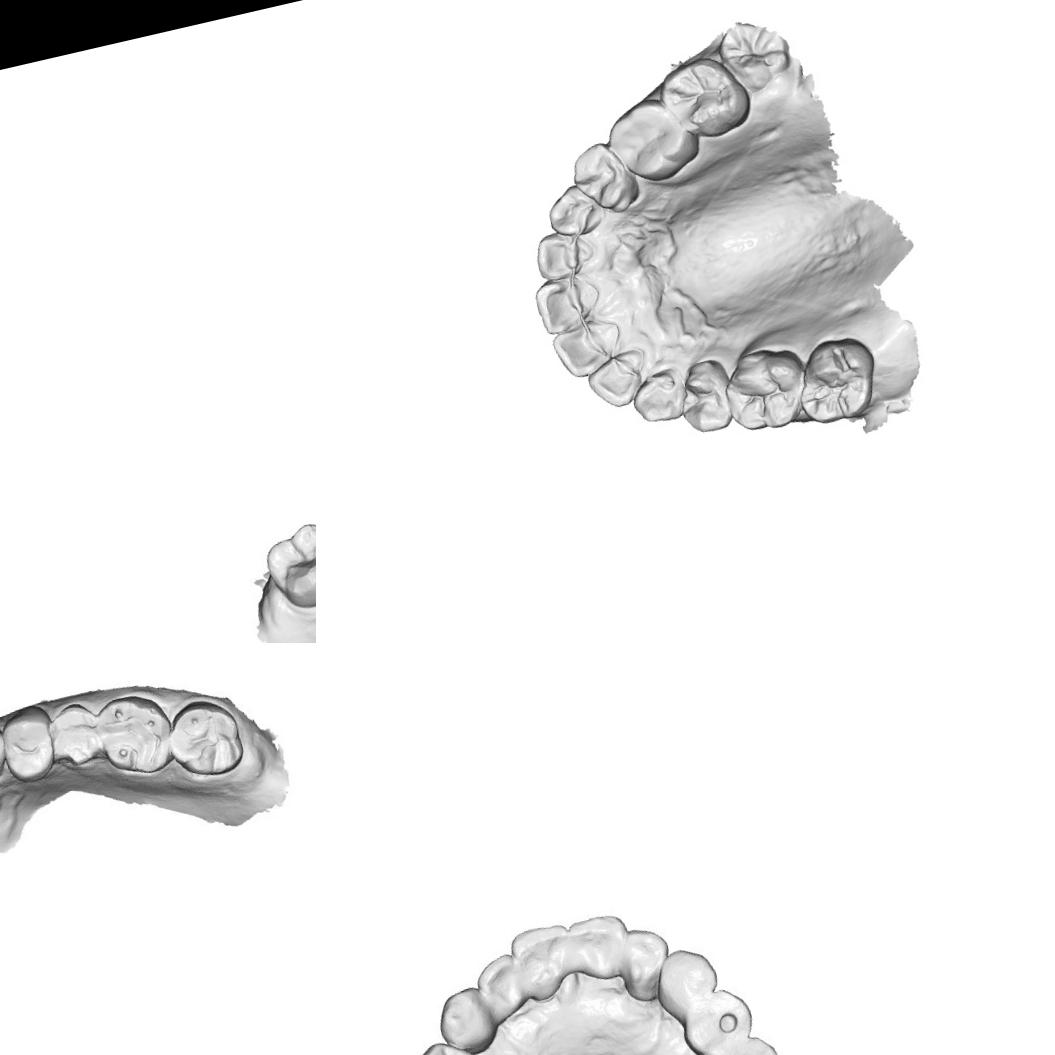canine: (646, 938, 725, 1018), (428, 982, 496, 1055), (626, 360, 696, 430), (540, 178, 607, 240)
incisor: (502, 914, 581, 1001), (559, 907, 637, 990), (608, 918, 677, 1005), (548, 314, 627, 382), (531, 269, 606, 337), (582, 346, 654, 412), (470, 948, 526, 1024), (530, 224, 600, 284)
molar: (601, 90, 706, 191), (652, 49, 756, 147), (787, 330, 887, 428), (716, 340, 816, 438), (159, 683, 248, 787), (92, 689, 177, 781), (712, 10, 798, 98), (258, 518, 316, 616)
premolar: (566, 134, 644, 222), (675, 980, 759, 1055), (672, 355, 740, 438), (42, 698, 107, 768), (0, 710, 62, 783), (403, 1032, 494, 1055), (698, 1032, 789, 1055)
